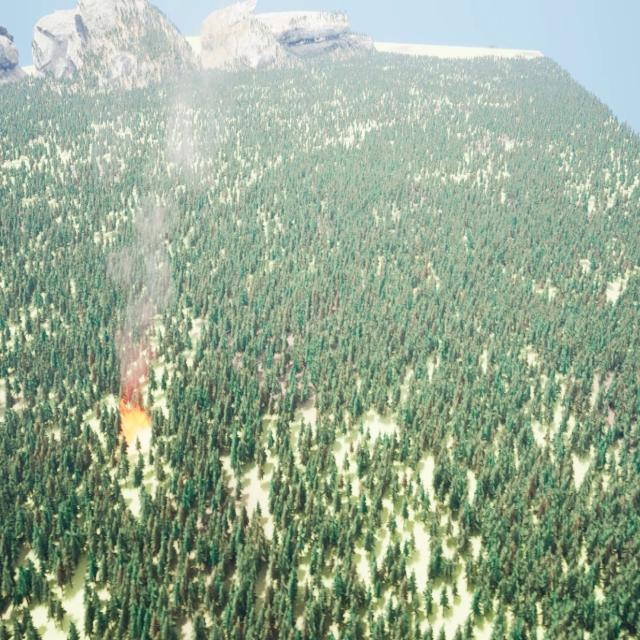fire: (120, 398, 148, 437)
smoke: (114, 61, 220, 398)
